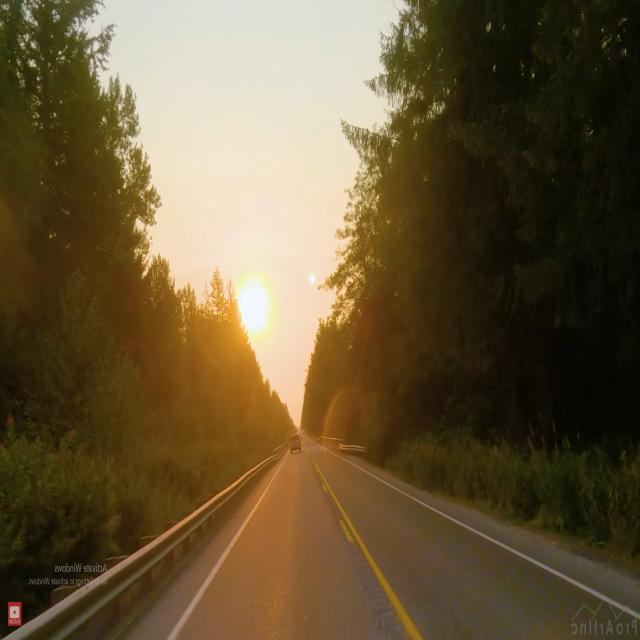sun: (234, 276, 272, 340)
